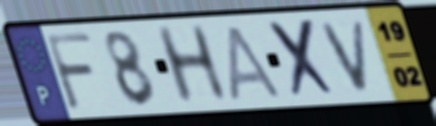8: (102, 28, 159, 109)
A: (224, 22, 285, 102)
F: (42, 31, 100, 113)
H: (151, 21, 232, 108)
V: (318, 17, 373, 95)
X: (265, 16, 342, 102)
